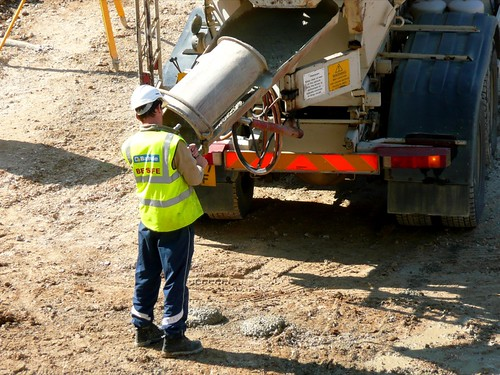person hardhat: (110, 85, 223, 358)
